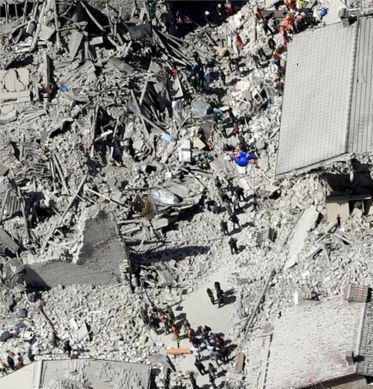Human: (232, 151, 261, 169), (29, 331, 59, 348), (161, 65, 191, 82), (39, 82, 70, 98), (137, 194, 155, 221), (192, 67, 213, 90), (151, 15, 193, 26), (303, 6, 329, 20), (261, 47, 284, 62), (208, 362, 218, 387), (195, 358, 207, 376), (229, 212, 241, 230), (0, 348, 16, 361), (149, 0, 159, 19), (228, 236, 238, 255), (235, 185, 246, 202), (220, 217, 229, 236), (232, 193, 241, 211), (0, 359, 8, 377), (79, 141, 90, 154), (207, 136, 213, 152), (336, 214, 342, 228), (7, 363, 18, 370), (145, 41, 156, 47), (188, 257, 195, 266), (151, 153, 160, 159), (277, 311, 283, 319), (177, 337, 180, 349), (105, 243, 110, 250), (60, 203, 65, 208), (323, 21, 326, 28), (268, 103, 271, 110), (100, 318, 105, 322), (312, 29, 315, 32), (179, 256, 182, 258), (144, 258, 146, 260), (297, 63, 298, 66), (229, 333, 230, 335), (317, 302, 318, 303)
